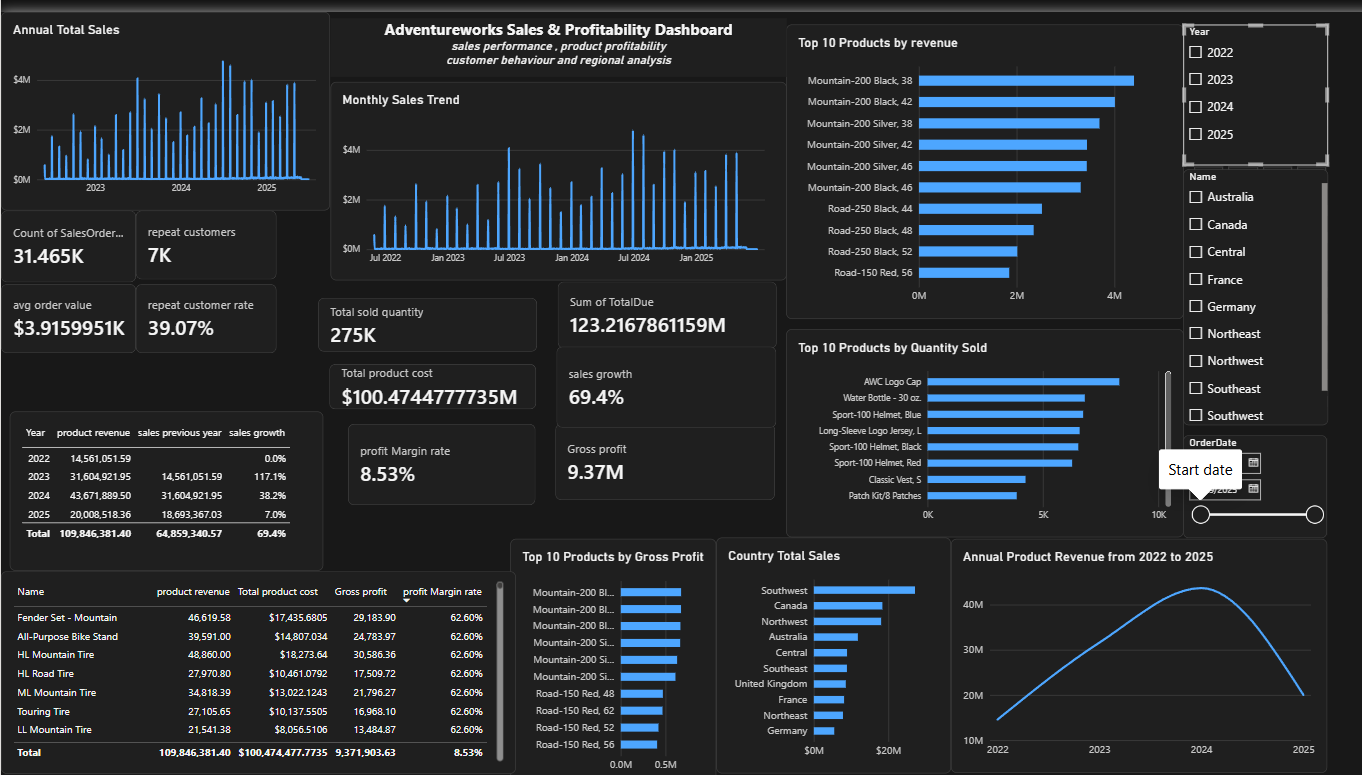

What the dashboard file says about the page in this screenshot:
{"tool":"powerbi","page":{"name":"Page 1","canvas":[1920,1080],"ordinal":0},"visuals":[{"type":"cardVisual","title":"sadadad","fields":{"Data":["Sum(Sales SalesOrderHeader.TotalDue)"]},"box":[776,376,305,93.3],"z":0},{"type":"cardVisual","fields":{"Data":["CountNonNull(Sales SalesOrderHeader.SalesOrderID)"]},"box":[0,276.7,188.3,100],"z":1000},{"type":"cardVisual","title":"Average order Value","fields":{"Data":["Production Product.avg order value"]},"box":[0,378.3,188.3,96.7],"z":2000},{"type":"lineChart","title":"Monthly Sales Trend","fields":{"Category":["Sales SalesOrderHeader.OrderDate.Variation.Date Hierarchy.Year"],"Y":["Production Product.Total Sales"]},"box":[458.3,96.7,635,276.7],"z":3000},{"type":"clusteredBarChart","title":"Top 10 Products by revenue","fields":{"Category":["Production Product.Name"],"Y":["Production Product.product revenue"]},"box":[1093.3,16.7,553.3,410],"z":4000},{"type":"clusteredBarChart","title":"Country Total Sales","fields":{"Category":["Sales SalesTerritory.Name"],"Y":["Production Product.Total Sales"]},"box":[996.7,731.7,326.7,328.3],"z":5000},{"type":"lineChart","title":"Annual Total Sales","fields":{"Category":["Sales SalesOrderHeader.OrderDate"],"Y":["Production Product.Total Sales"]},"box":[0,0,458.3,276.7],"z":6000},{"type":"slicer","fields":{"Values":["Calender.Date.Variation.Date Hierarchy.Year"]},"box":[1646.7,16.7,201.7,196.7],"z":7000},{"type":"slicer","fields":{"Values":["Sales SalesTerritory.Name"]},"box":[1646.7,218.3,201.7,356.7],"z":8000},{"type":"clusteredBarChart","title":"Top 10 Products by Quantity Sold","fields":{"Category":["Production Product.Name"],"Y":["Production Product.Total sold quantity"]},"box":[1093.3,441.7,553.3,290],"z":9000},{"type":"cardVisual","fields":{"Data":["Production Product.Total sold quantity"]},"box":[442,398,305,75],"z":10000},{"type":"cardVisual","fields":{"Data":["Production Product.repeat customers"]},"box":[188.3,276.7,196.7,96.7],"z":11000},{"type":"cardVisual","fields":{"Data":["select","Production Product.repeat customer rate"]},"box":[188.3,378.3,196.7,96.7],"z":12000},{"type":"cardVisual","fields":{"Data":["Production Product.Total product cost"]},"box":[458,490,288.3,63.3],"z":13000},{"type":"cardVisual","fields":{"Data":["Production Product.Gross profit"]},"box":[772,574,306.7,106.7],"z":14000},{"type":"cardVisual","fields":{"Data":["Production Product.profit Margin rate"]},"box":[484,574,261.7,113.3],"z":15000},{"type":"clusteredBarChart","title":"Top 10 Products by Gross Profit","fields":{"Category":["Production Product.Name"],"Y":["Production Product.Gross profit"]},"box":[710,733.3,286.7,346.7],"z":16000},{"type":"tableEx","fields":{"Values":["Production Product.Name","Production Product.product revenue","Production Product.Total product cost","Production Product.Gross profit","Production Product.profit Margin rate"]},"box":[0,778.3,716.7,281.7],"z":17000},{"type":"lineChart","title":"Annual Product Revenue from 2022 to 2025","fields":{"Category":["Calender.Date.Variation.Date Hierarchy.Year"],"Y":["Production Product.product revenue"]},"box":[1323.3,733.3,524,326],"z":18000},{"type":"cardVisual","fields":{"Data":["Calender.sales growth"]},"box":[774,466,306.7,113.3],"z":19000},{"type":"tableEx","fields":{"Values":["Calender.Date.Variation.Date Hierarchy.Year","Production Product.product revenue","Calender.sales previous year","Calender.sales growth"]},"box":[11.7,556.7,436.7,221.7],"z":20000},{"type":"slicer","fields":{"Values":["Sales SalesOrderHeader.OrderDate"]},"box":[1646.7,590,200,143.3],"z":21000},{"type":"textbox","box":[458.3,8.3,635,81.7],"z":23000}]}

Visuals, with their boxes in screenshot pixels (x1, y1, x2, y2), scaled from the page's 1920x1080 canvas onto the 1362x775 screenshot:
"sadadad" cardVisual: <bbox>550, 270, 767, 337</bbox>
cardVisual - CountNonNull(Sales SalesOrderHeader.SalesOrderID): <bbox>0, 199, 134, 270</bbox>
"Average order Value" cardVisual: <bbox>0, 271, 134, 341</bbox>
"Monthly Sales Trend" lineChart: <bbox>325, 69, 776, 268</bbox>
"Top 10 Products by revenue" clusteredBarChart: <bbox>776, 12, 1168, 306</bbox>
"Country Total Sales" clusteredBarChart: <bbox>707, 525, 939, 761</bbox>
"Annual Total Sales" lineChart: <bbox>0, 0, 325, 199</bbox>
slicer - Calender.Date.Variation.Date Hierarchy.Year: <bbox>1168, 12, 1311, 153</bbox>
slicer - Sales SalesTerritory.Name: <bbox>1168, 157, 1311, 413</bbox>
"Top 10 Products by Quantity Sold" clusteredBarChart: <bbox>776, 317, 1168, 525</bbox>
cardVisual - Production Product.Total sold quantity: <bbox>314, 286, 530, 339</bbox>
cardVisual - Production Product.repeat customers: <bbox>134, 199, 273, 268</bbox>
cardVisual - select x Production Product.repeat customer rate: <bbox>134, 271, 273, 341</bbox>
cardVisual - Production Product.Total product cost: <bbox>325, 352, 529, 397</bbox>
cardVisual - Production Product.Gross profit: <bbox>548, 412, 765, 488</bbox>
cardVisual - Production Product.profit Margin rate: <bbox>343, 412, 529, 493</bbox>
"Top 10 Products by Gross Profit" clusteredBarChart: <bbox>504, 526, 707, 774</bbox>
tableEx - Production Product.Name x Production Product.product revenue: <bbox>0, 559, 508, 761</bbox>
"Annual Product Revenue from 2022 to 2025" lineChart: <bbox>939, 526, 1310, 760</bbox>
cardVisual - Calender.sales growth: <bbox>549, 334, 767, 416</bbox>
tableEx - Calender.Date.Variation.Date Hierarchy.Year x Production Product.product revenue: <bbox>8, 399, 318, 559</bbox>
slicer - Sales SalesOrderHeader.OrderDate: <bbox>1168, 423, 1310, 526</bbox>
textbox: <bbox>325, 6, 776, 65</bbox>
